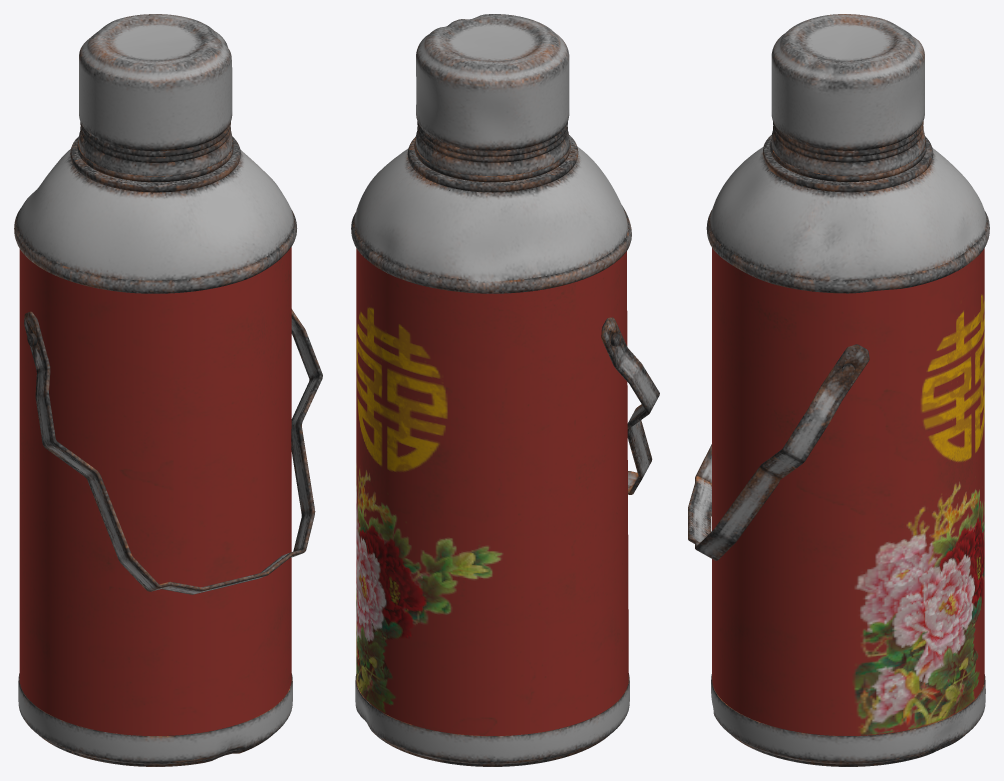
Rendered from kettle1.fbx.
3 views of the same model, side by side, from view 1: azimuth 30°, elevation 25°; view 2: azimuth 150°, elevation 25°; view 3: azimuth 270°, elevation 25° (orthographic).
Visible parts, largest first — view 1: Kettle_Baked, Handle_Baked; view 2: Kettle_Baked, Handle_Baked; view 3: Kettle_Baked, Handle_Baked.
Part boxes in pixels (<box>): Kettle_Baked: <box>14,14,297,766</box>; Handle_Baked: <box>24,309,322,594</box>; Kettle_Baked: <box>351,14,631,766</box>; Handle_Baked: <box>601,317,659,494</box>; Kettle_Baked: <box>706,14,989,766</box>; Handle_Baked: <box>688,344,869,560</box>.
Size of the model in its own units: 16.04 by 38.24 by 15.51.
